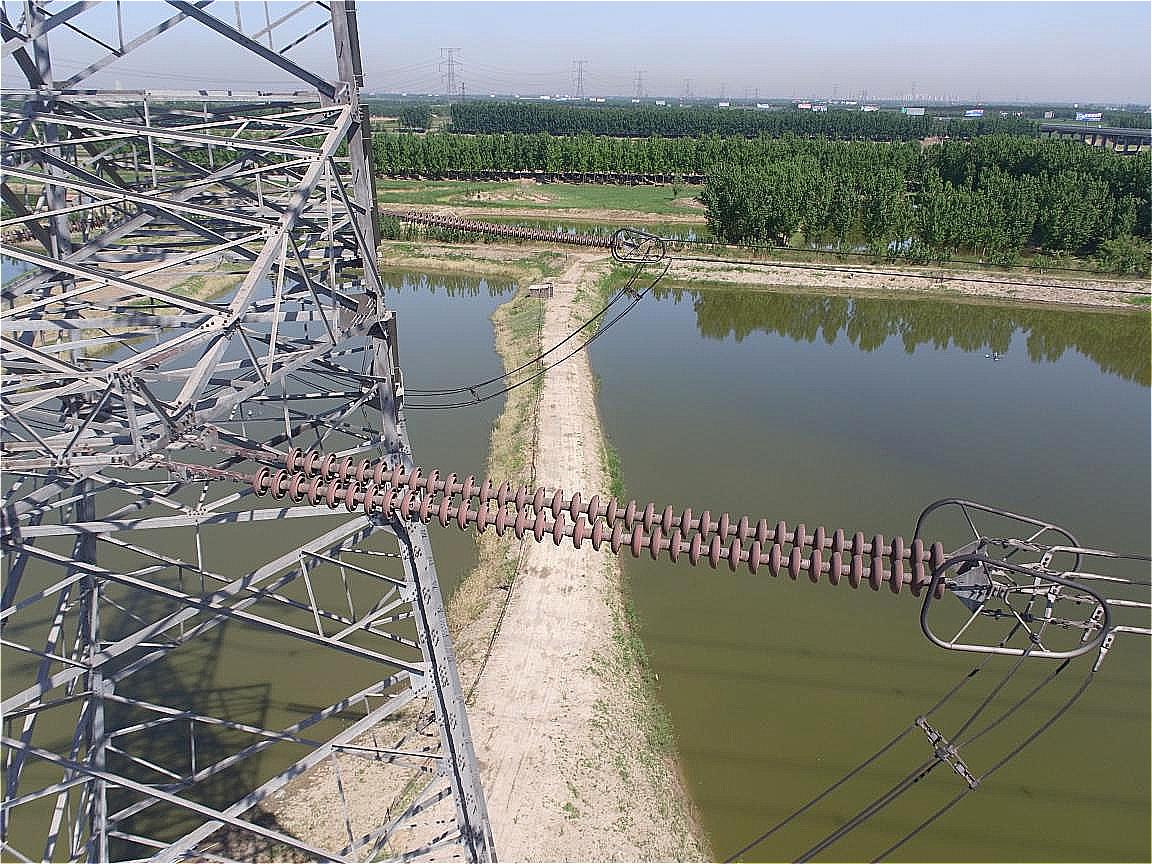insultor1: (210, 441, 976, 596)
insultor2: (390, 190, 625, 253)
